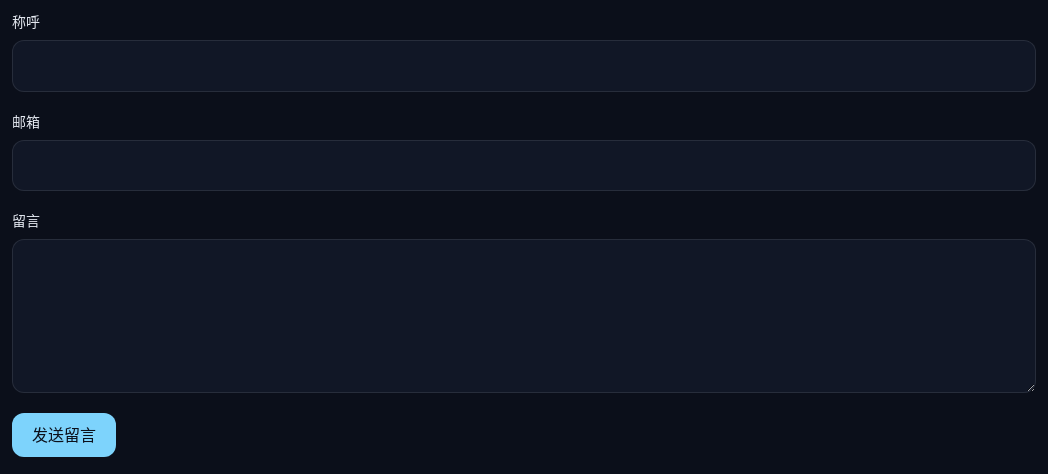
Scenario: ContactForm › 提交成功后展示成功提示并清空表单
Type "张三" into the field labelled "称呼" at (524, 66), box [12,40,1036,92]
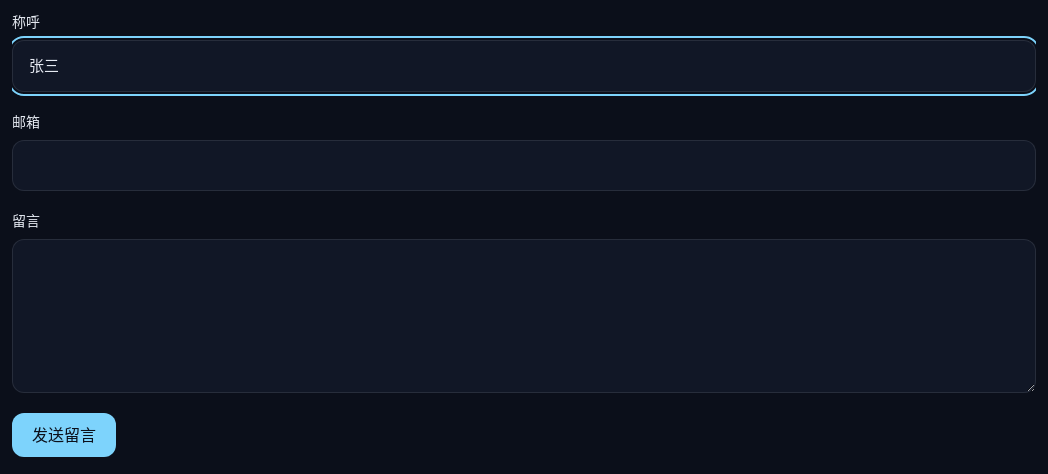
Type "zhangsan@example.com" into the field labelled "邮箱" at (524, 165), box [12,140,1036,191]
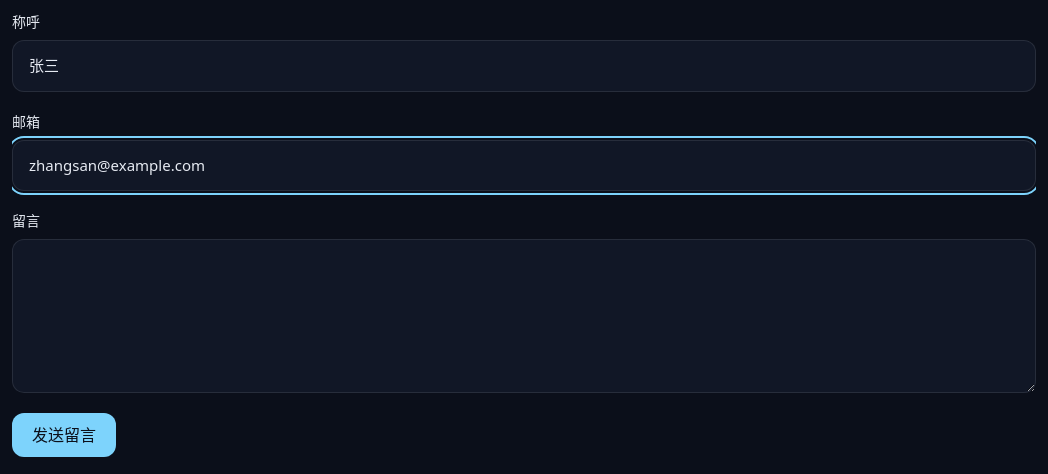
Type "这是一条长度足够的测试留言内容。" into the text box labelled "留言" at (524, 316), box [12,239,1036,392]
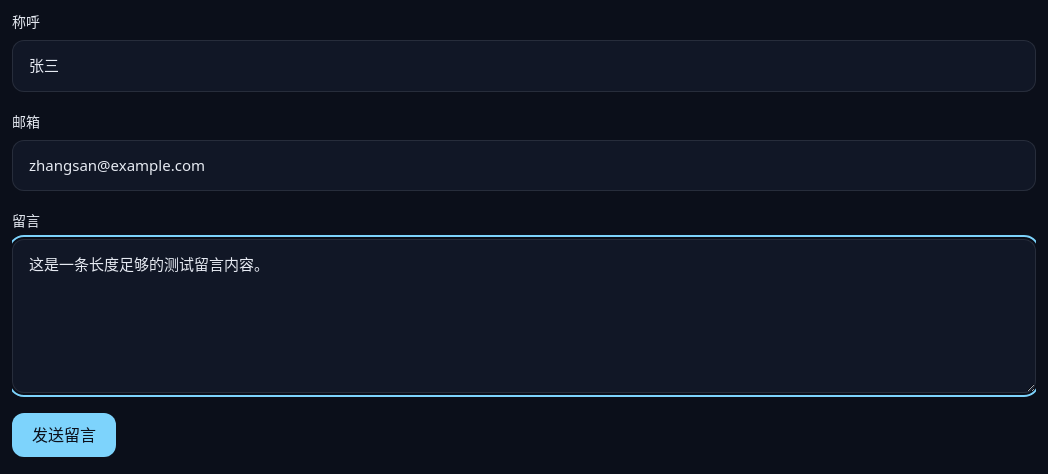
Click the button "发送留言" at (64, 434), box [12,412,116,456]
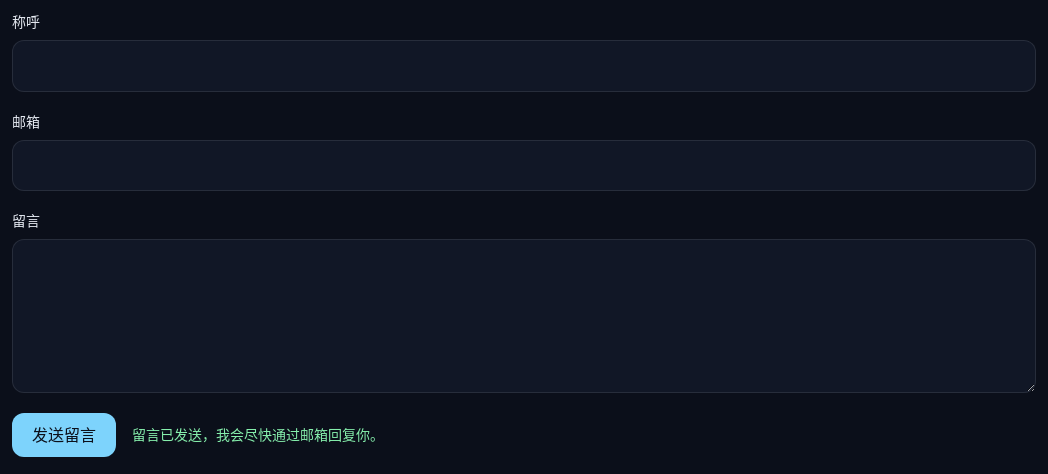
expect the message shows "留言已发送": met, box [132,424,384,444]
expect the field labelled "称呼" is empty: met, box [12,40,1036,92]
expect the field labelled "邮箱" is empty: met, box [12,140,1036,191]
